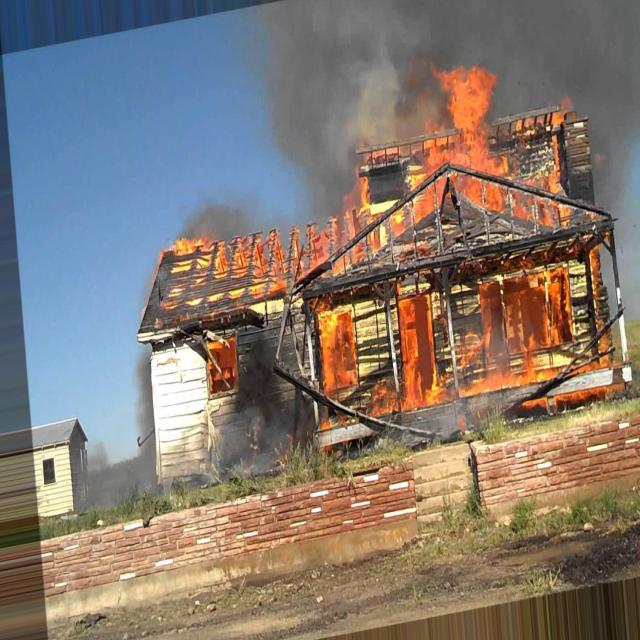fire: (339, 45, 601, 258), (315, 257, 608, 434), (144, 224, 328, 326)
